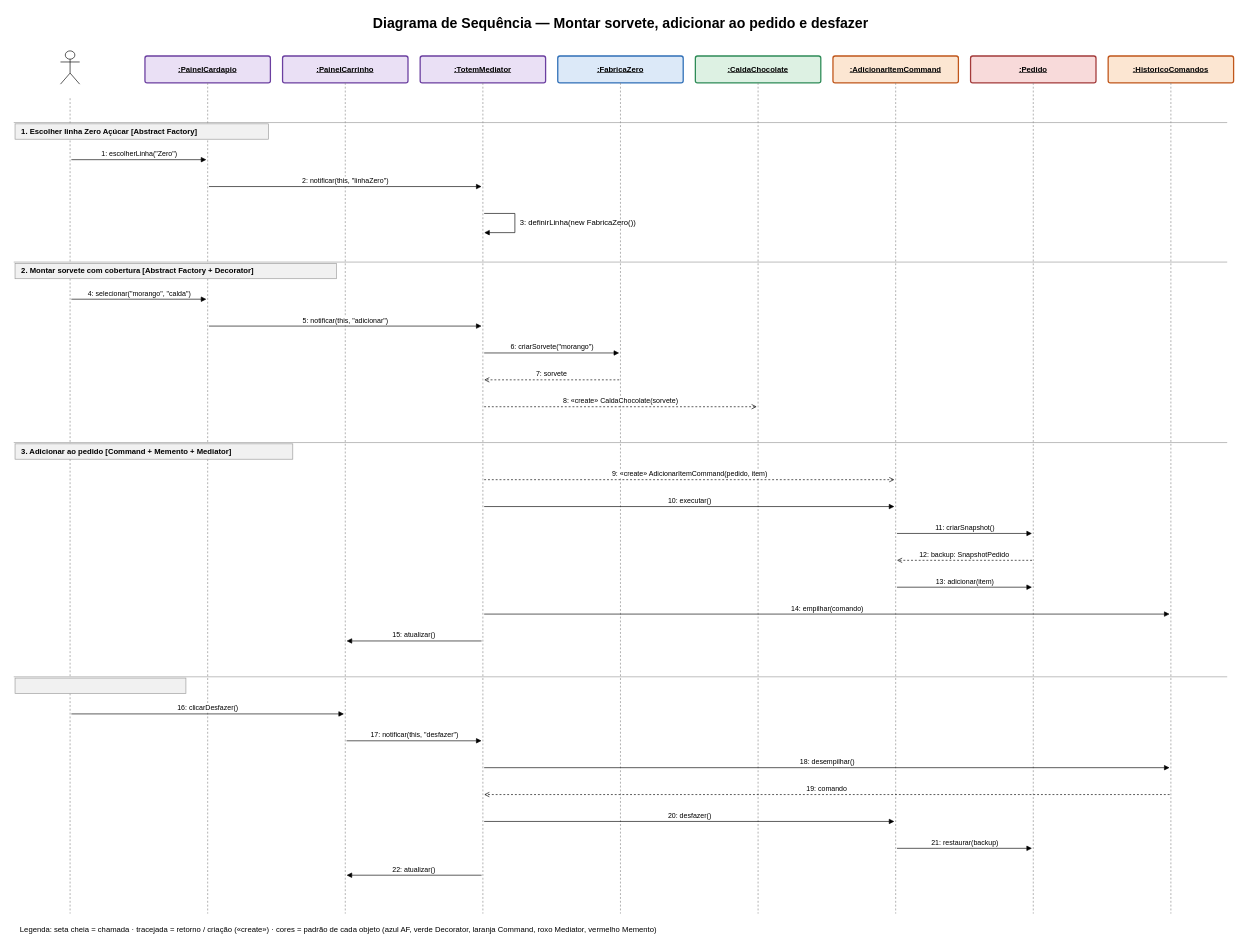
Image size: 1245x947. Some labels were removed from this diagram. Here are the shapes that lost their labels. From the top down, the centre of each, then its label:
At point 70,67: "Cliente".
At point 100,685: "4. Desfazer [Command + Memento]".
